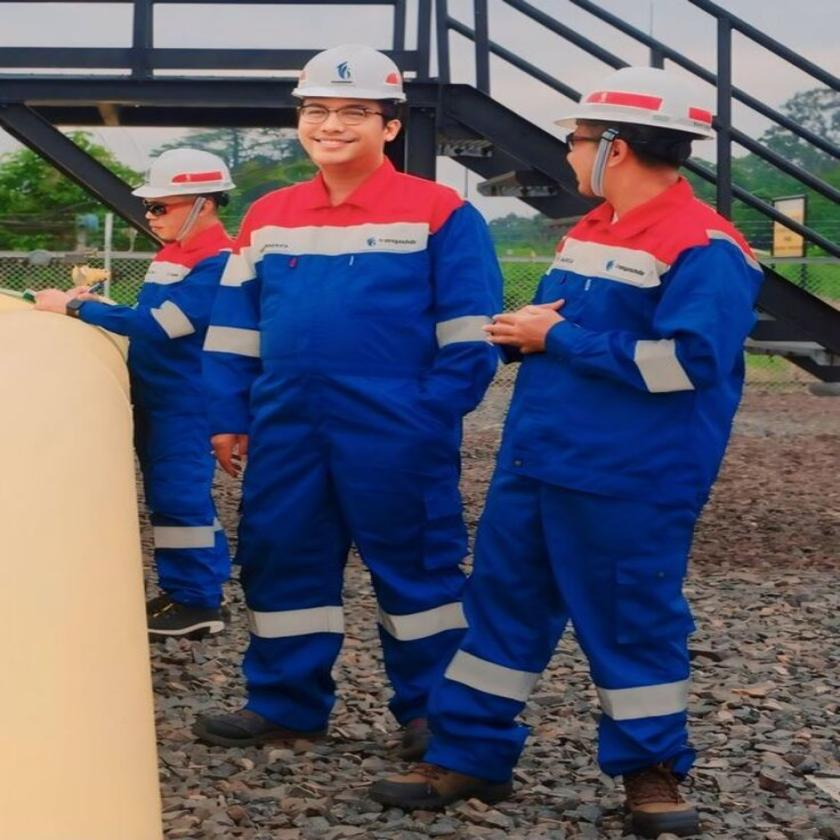Con_casco: (553, 66, 719, 220), (285, 46, 410, 178), (132, 149, 241, 250)
